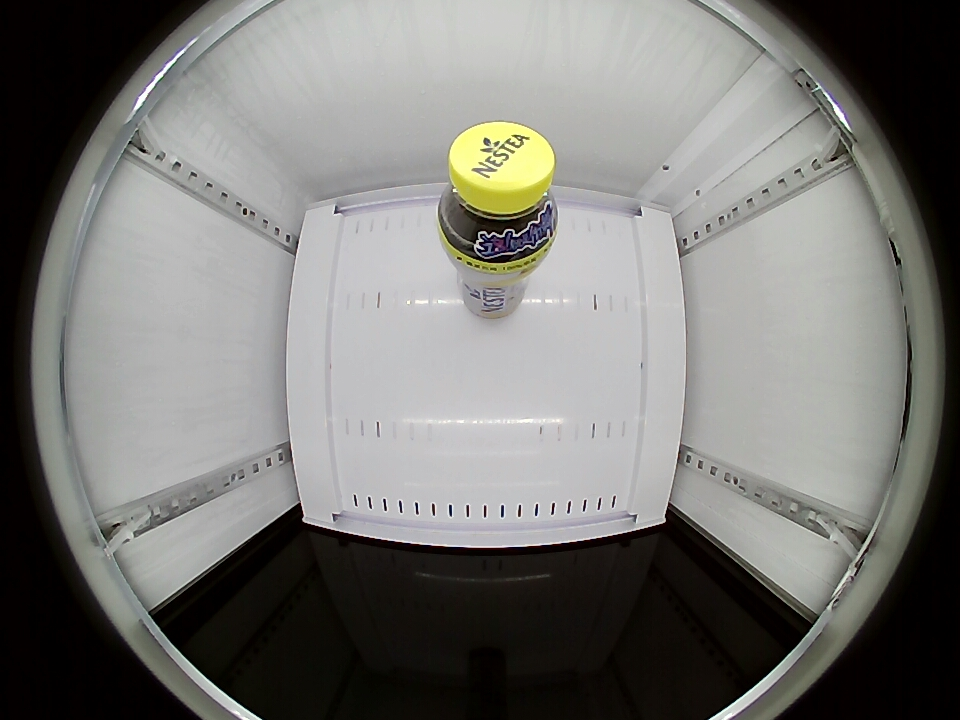chacui: (437, 121, 558, 268)
